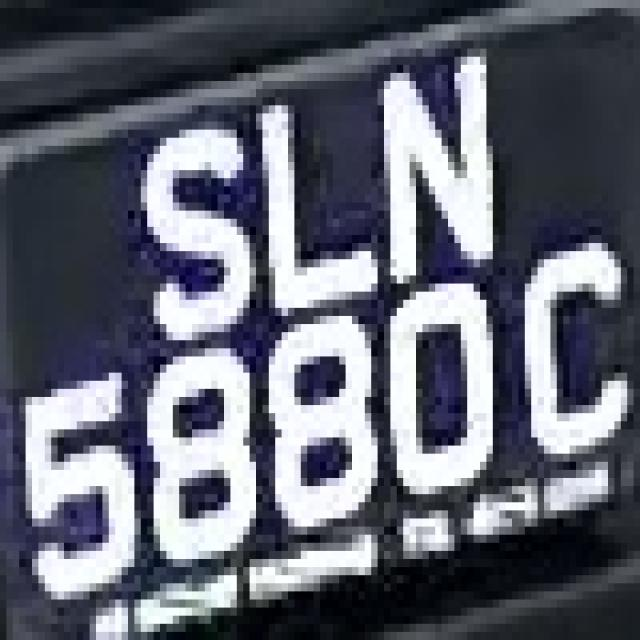0: (371, 251, 506, 519)
5: (13, 364, 154, 624)
8: (122, 324, 275, 583), (237, 292, 390, 551)
C: (512, 219, 640, 494)
L: (230, 57, 397, 324)
N: (358, 49, 525, 284)
S: (108, 81, 250, 348)
